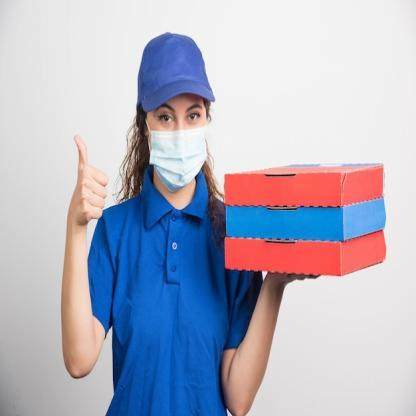thumb_up: (68, 131, 110, 231)
